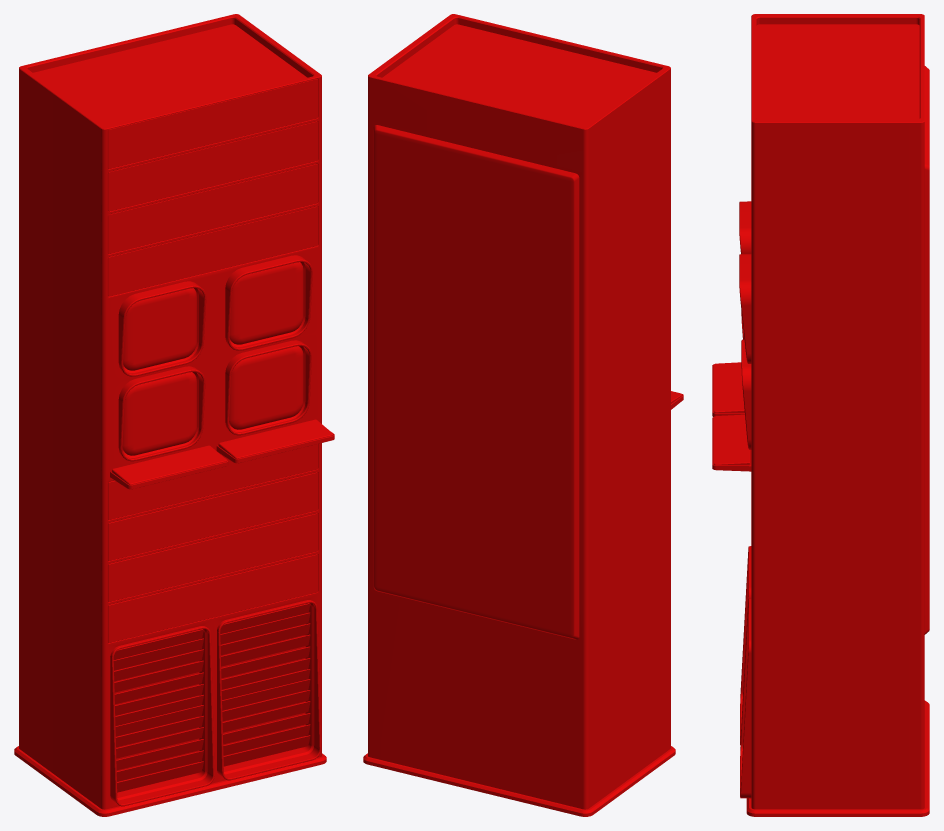
File: Equipment_1.fbx
3 views of the same model, side by side, from view 1: azimuth 30°, elevation 25°; view 2: azimuth 150°, elevation 25°; view 3: azimuth 270°, elevation 25° (orthographic).
Visible parts, largest first — view 1: L4:pCube113; view 2: L4:pCube113; view 3: L4:pCube113.
Part boxes in pixels (x1,y1,x2,y2): L4:pCube113: (14, 14, 334, 816); L4:pCube113: (363, 14, 683, 816); L4:pCube113: (712, 14, 929, 816).
Size of the model in its own units: 82.11 by 235 by 66.98.
